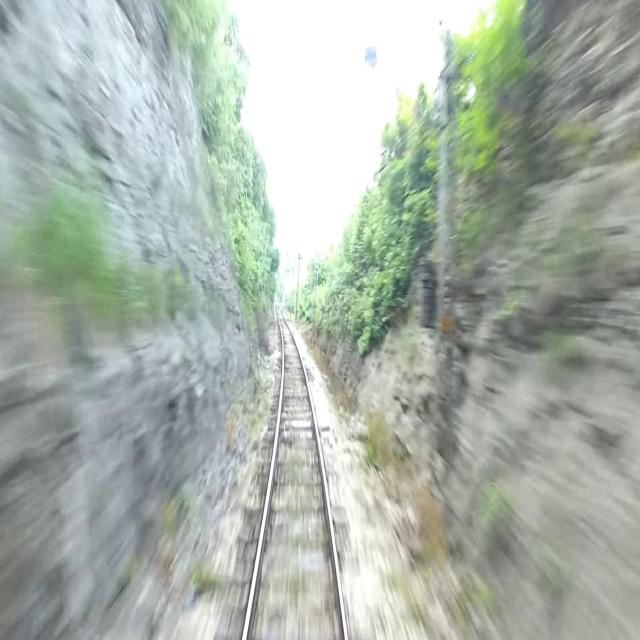rail-track: (246, 304, 343, 639)
